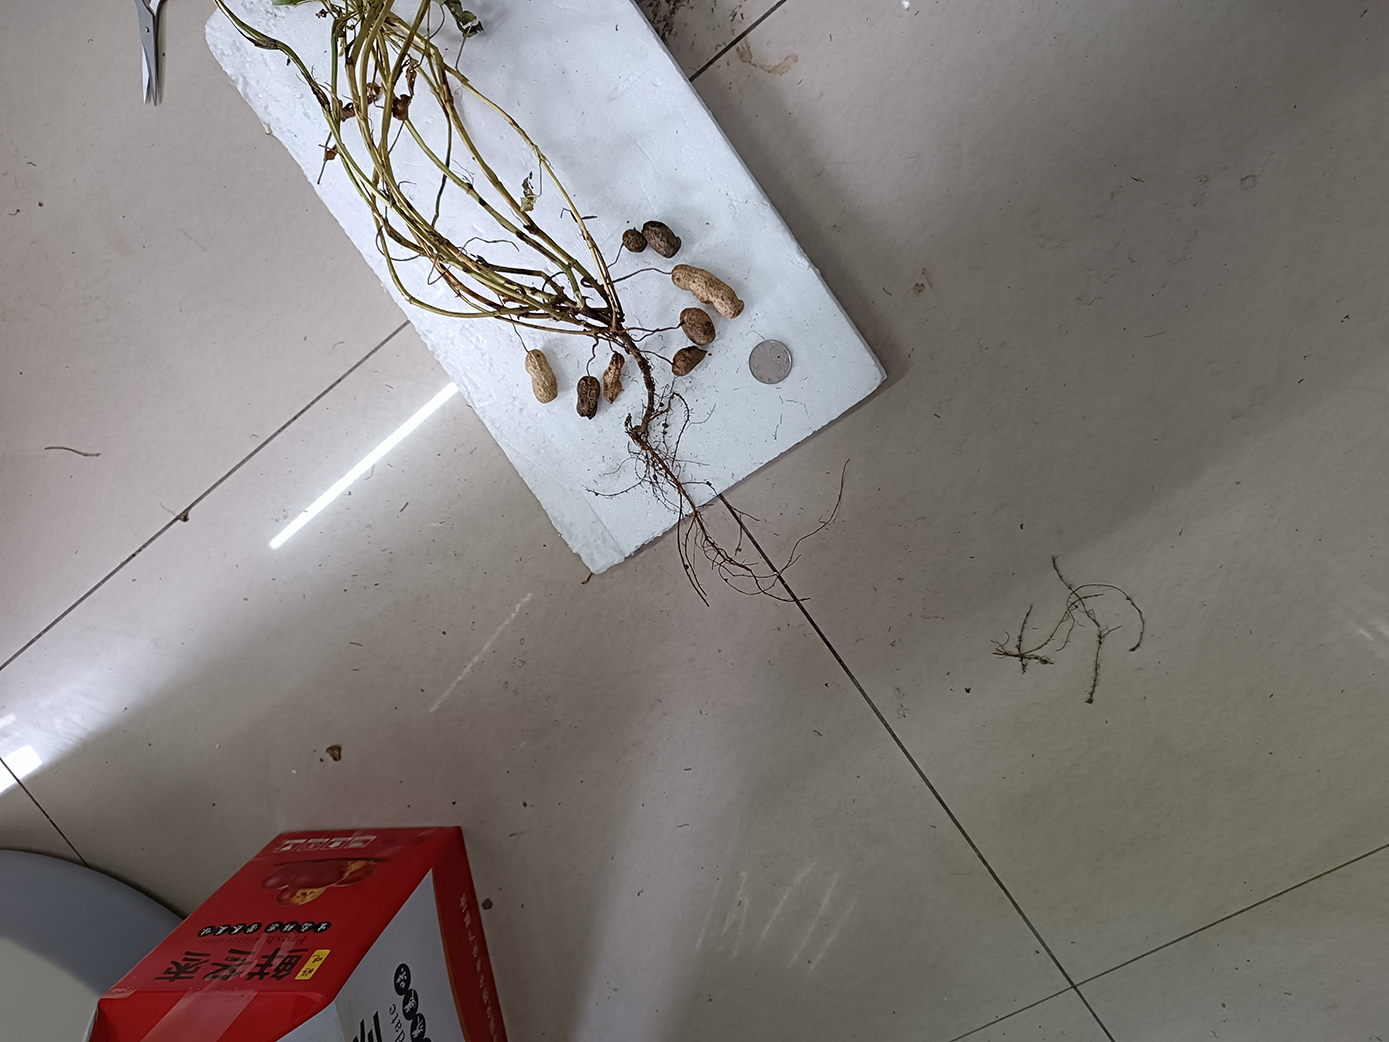h: (671, 265, 744, 319), (524, 350, 558, 403)
l: (643, 220, 681, 258), (679, 306, 715, 344), (602, 351, 625, 405), (576, 377, 601, 419), (672, 346, 707, 377), (622, 229, 648, 253)
